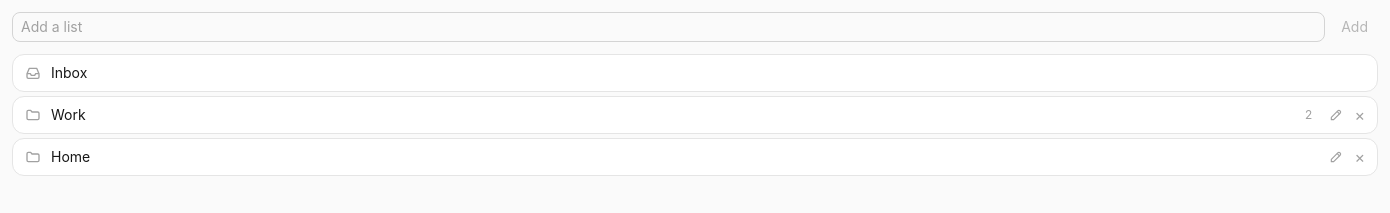
Test: making a list › says so rather than making a second list of the same name (LST-5)
Type "work" into the field named "Name of the new list".
click(669, 27); type("work")  # box [12,12,1325,42]
Then press Enter
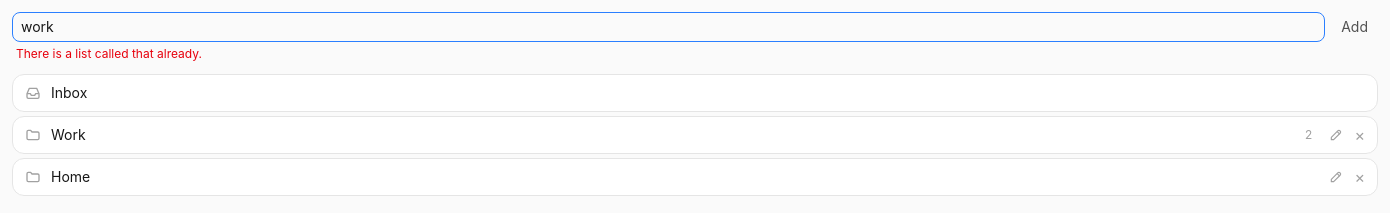
Check: the message reads "There is a list called that already.", box [16,46,202,61]
